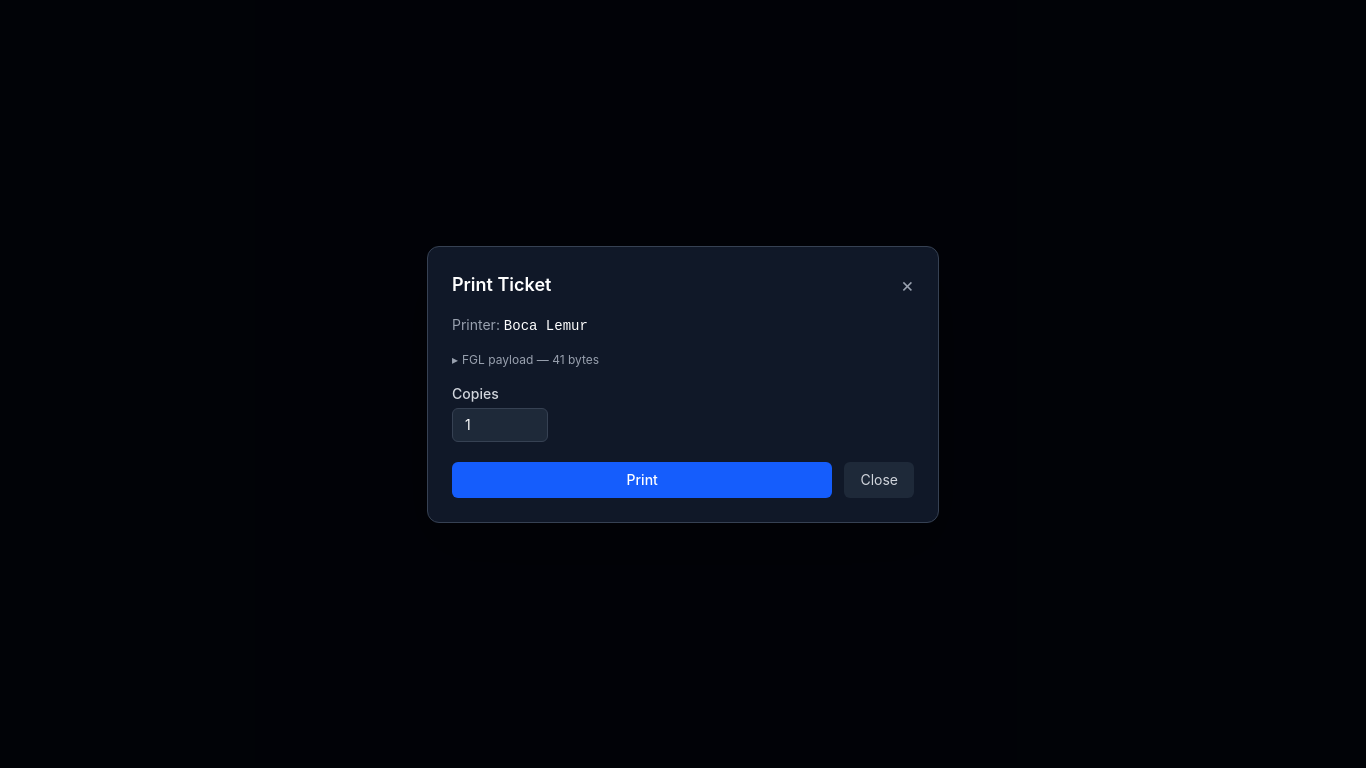
Test: PrintDialog › shows error status when print throws an exception
Click the button "Print".
click(642, 480)  # box [452,462,832,498]
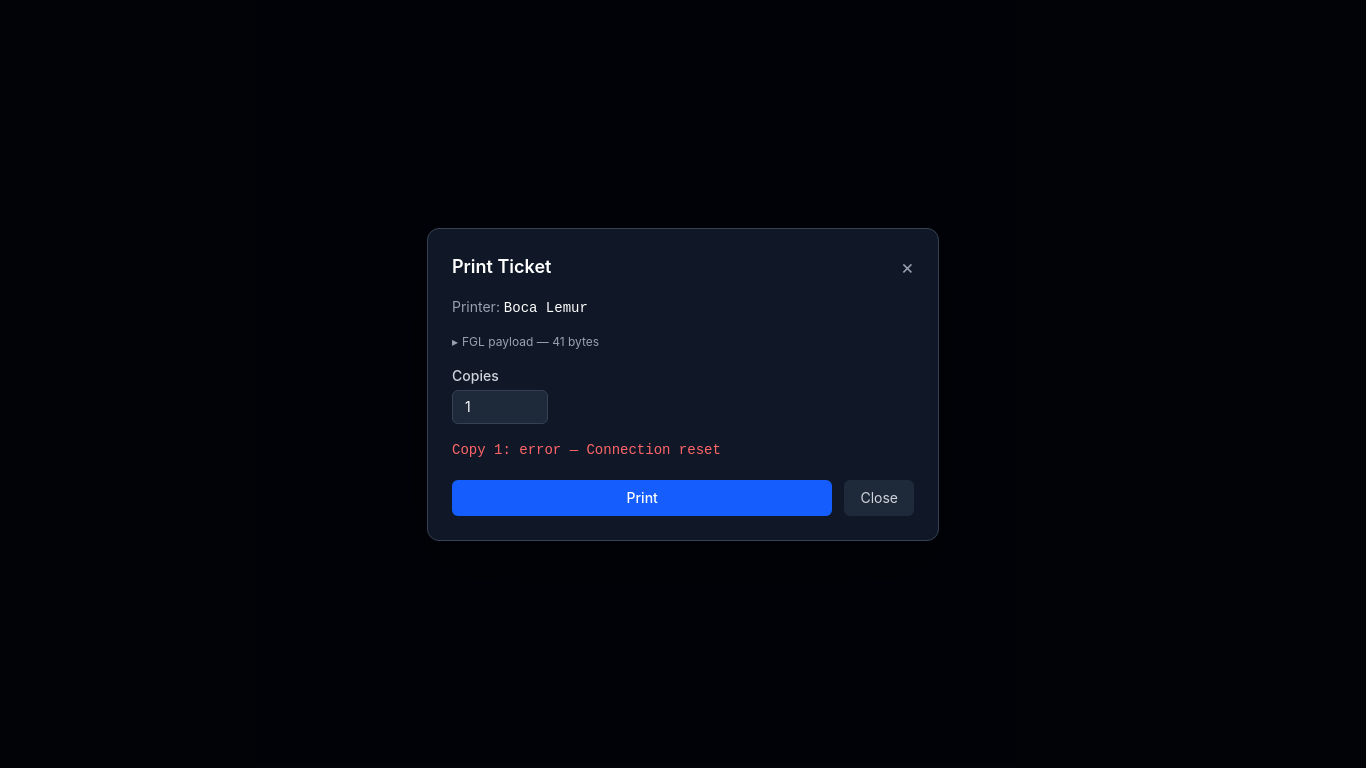
expect the list item "Copy 1: error — Connection reset" is shown: met, box [452,442,721,458]
